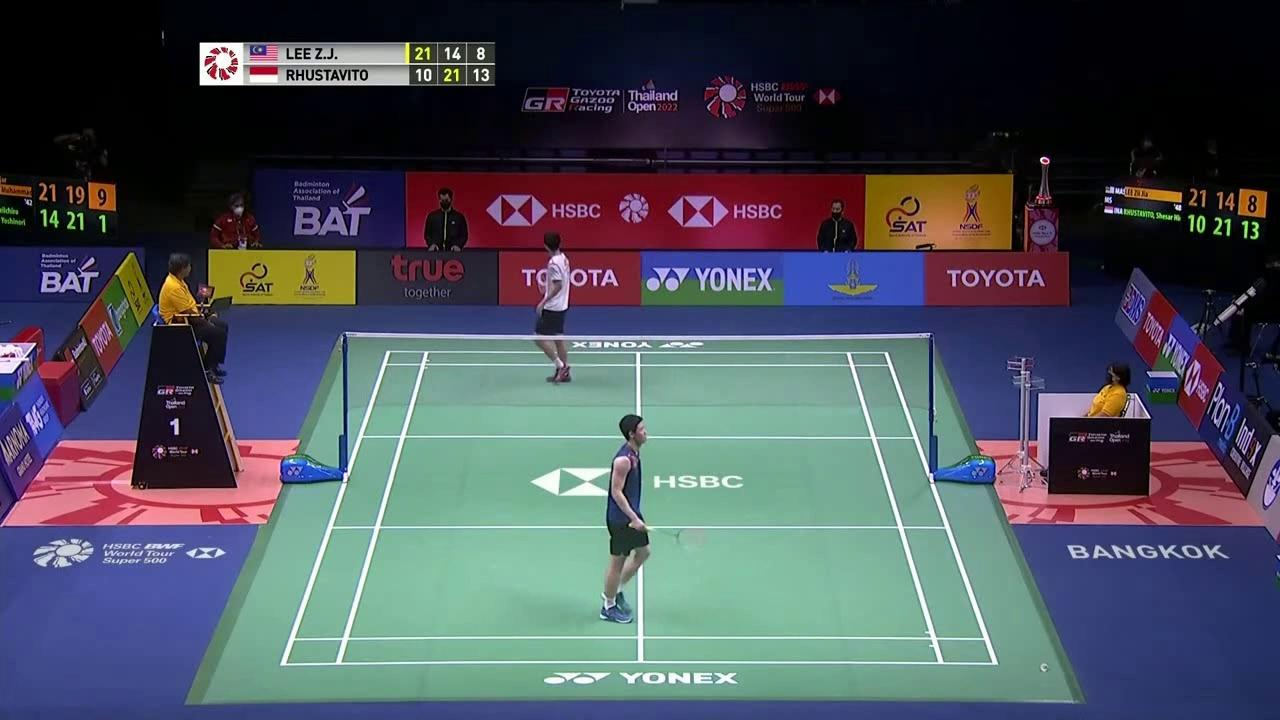racket: (627, 519, 706, 553), (536, 275, 549, 296)
shuttle: (1039, 662, 1049, 673)
